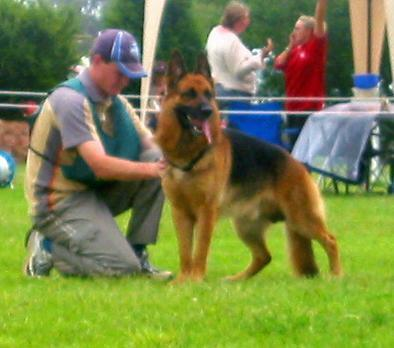German_shepherd: (154, 49, 341, 279)
